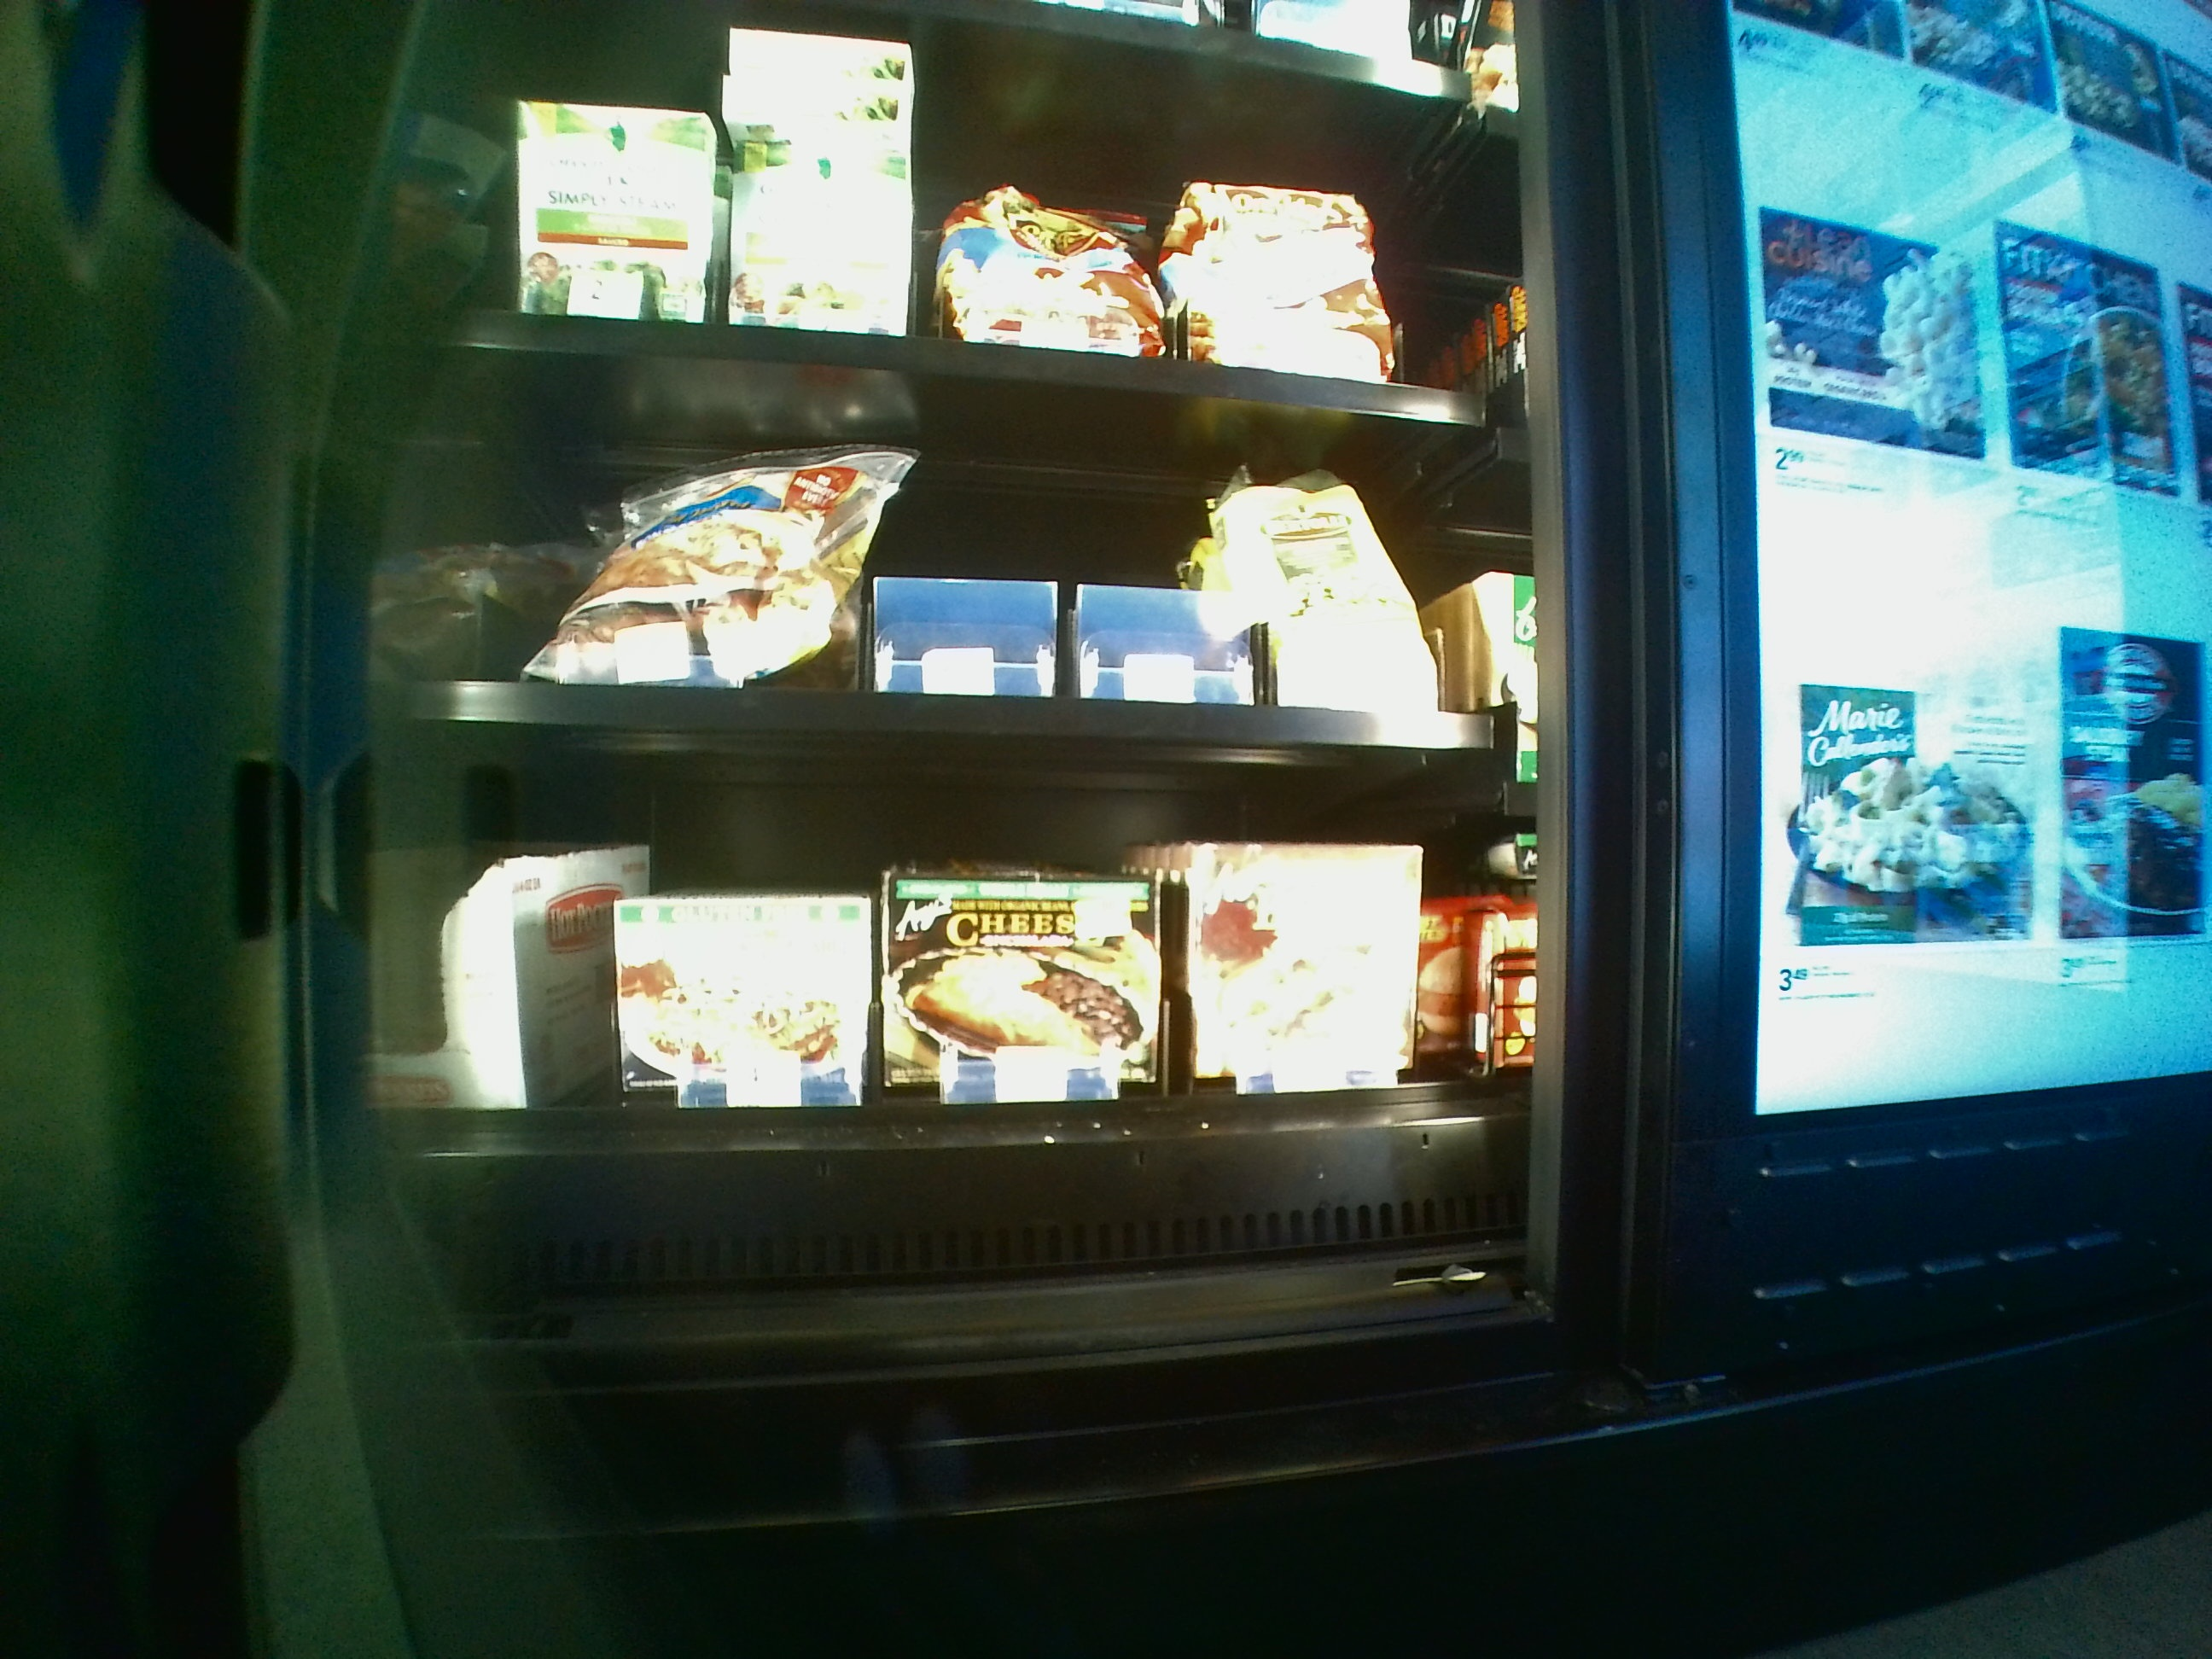shelf: (388, 758, 1526, 1298), (392, 352, 1514, 744)
